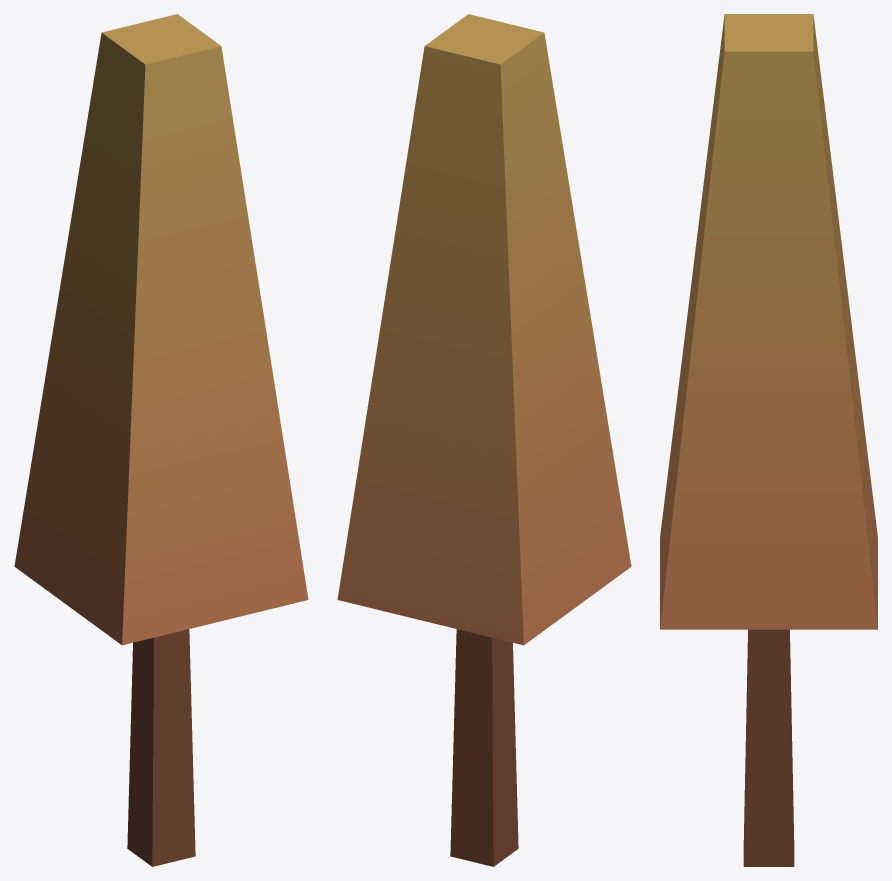
File: Tree_26_gradient_yellow_vc.fbx
3 views of the same model, side by side, from view 1: azimuth 30°, elevation 25°; view 2: azimuth 150°, elevation 25°; view 3: azimuth 270°, elevation 25° (orthographic).
Visible parts, largest first — view 1: Tree_26_gradient_yellow_vc; view 2: Tree_26_gradient_yellow_vc; view 3: Tree_26_gradient_yellow_vc.
Boxes of the visible parts, left/top/right/bottom form: Tree_26_gradient_yellow_vc: left=14, top=14, right=308, bottom=866; Tree_26_gradient_yellow_vc: left=337, top=14, right=631, bottom=866; Tree_26_gradient_yellow_vc: left=660, top=14, right=877, bottom=866.
Bounding box in the file's own units: 63.19 × 263 × 63.19.
